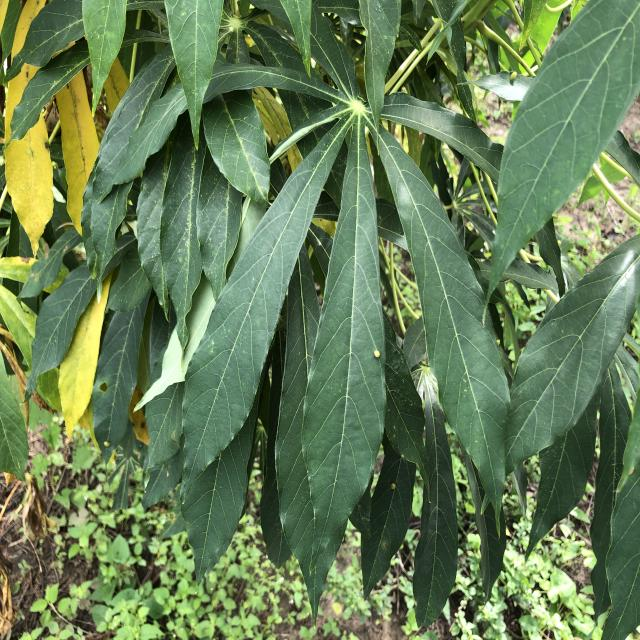Maleza: (109, 565, 299, 638), (69, 493, 156, 640)
Mosca: (363, 336, 386, 367), (98, 367, 117, 402), (93, 434, 115, 453), (387, 475, 400, 492)
